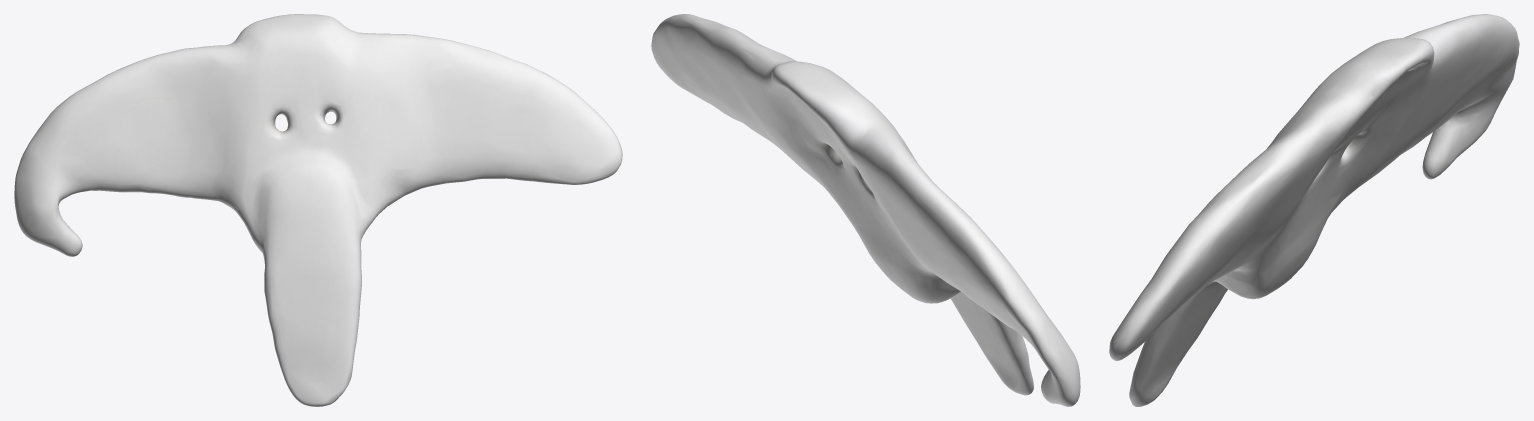
File: 13_panobbi.glb
3 renders of one model, left to right at view 1: azimuth 30°, elevation 25°; view 2: azimuth 150°, elevation 25°; view 3: azimuth 270°, elevation 25°, orthographic. The views are drawn at different scales.
Parts seen in each view (by area): view 1: Group7819; view 2: Group7819; view 3: Group7819.
Boxes of the visible parts, x1,y1,x2,y2 form: Group7819: (14,14,622,406); Group7819: (651,14,1080,406); Group7819: (1109,14,1519,406).
Size of the model in its own units: 12.38 by 7.6 by 7.12.
Materials: 1 (1 with a texture image).
